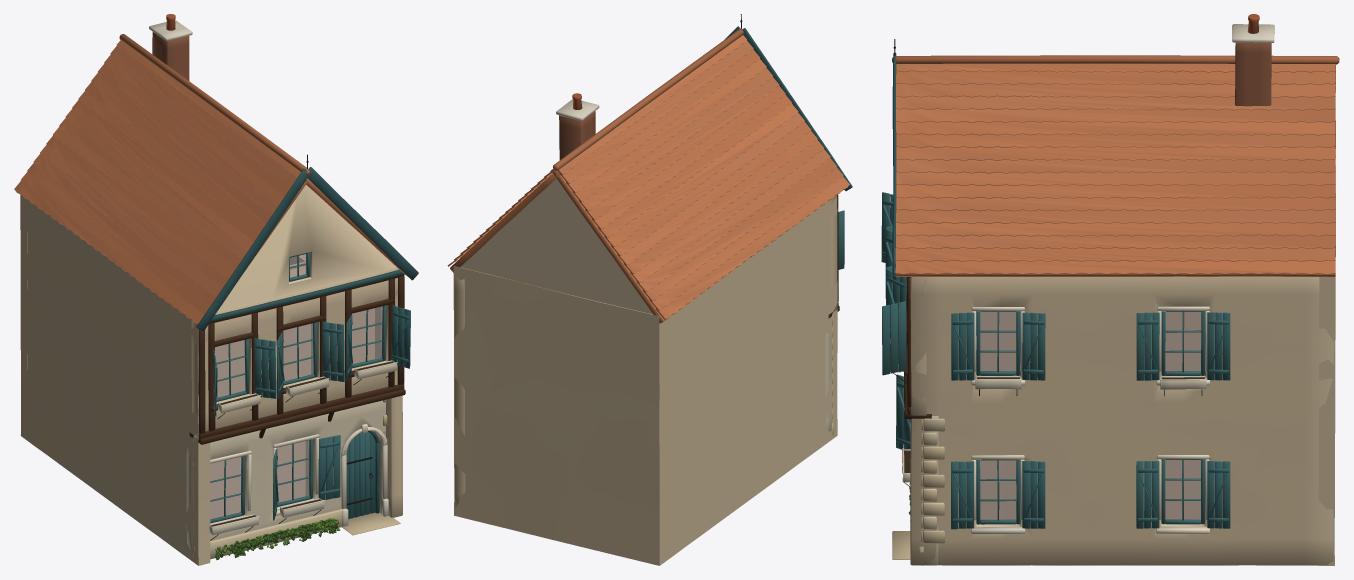
The model's file is GateStreet_BehindOuter3.glb.
3 views of the same model, side by side, from view 1: azimuth 30°, elevation 25°; view 2: azimuth 150°, elevation 25°; view 3: azimuth 270°, elevation 25° (orthographic). The views are drawn at different scales.
Parts seen in each view (by area): view 1: Sammel Putz, Sammel Stein, Sammel Lack, Sammel Holz, Sammel Putz innen, Sammel Quader, Glas, Sammel Pflanze, Sammel Ziegel; view 2: Sammel Putz, Sammel Stein, Sammel Lack, Sammel Ziegel; view 3: Sammel Putz, Sammel Stein, Sammel Lack, Sammel Putz innen, Glas, Sammel Ziegel, Sammel Holz.
Boxes of the visible parts, x1=… form: Sammel Putz: x1=20, y1=14, x2=402, y2=565; Sammel Stein: x1=14, y1=34, x2=408, y2=560; Sammel Lack: x1=196, y1=167, x2=418, y2=535; Sammel Holz: x1=189, y1=274, x2=405, y2=444; Sammel Putz innen: x1=210, y1=254, x2=381, y2=518; Sammel Quader: x1=186, y1=400, x2=385, y2=551; Glas: x1=210, y1=254, x2=382, y2=518; Sammel Pflanze: x1=215, y1=518, x2=340, y2=560; Sammel Ziegel: x1=152, y1=32, x2=189, y2=80; Sammel Putz: x1=453, y1=93, x2=837, y2=565; Sammel Stein: x1=447, y1=28, x2=849, y2=435; Sammel Lack: x1=724, y1=26, x2=852, y2=269; Sammel Ziegel: x1=559, y1=111, x2=595, y2=159; Sammel Putz: x1=898, y1=14, x2=1335, y2=565; Sammel Stein: x1=892, y1=55, x2=1339, y2=565; Sammel Lack: x1=881, y1=53, x2=1230, y2=529; Sammel Putz innen: x1=980, y1=311, x2=1201, y2=519; Glas: x1=980, y1=312, x2=1200, y2=519; Sammel Ziegel: x1=1235, y1=42, x2=1271, y2=106; Sammel Holz: x1=904, y1=277, x2=931, y2=419.
Bounding box in the file's own units: 6.14 × 10.73 × 8.9.
